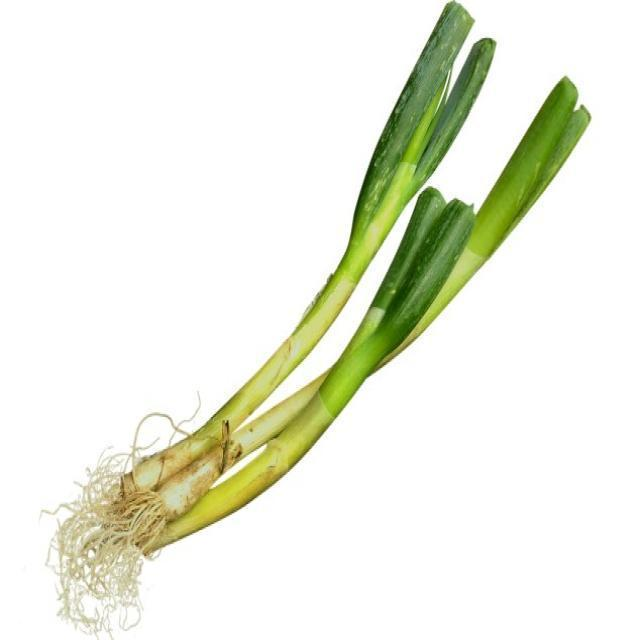green_onion: (66, 5, 594, 597)
